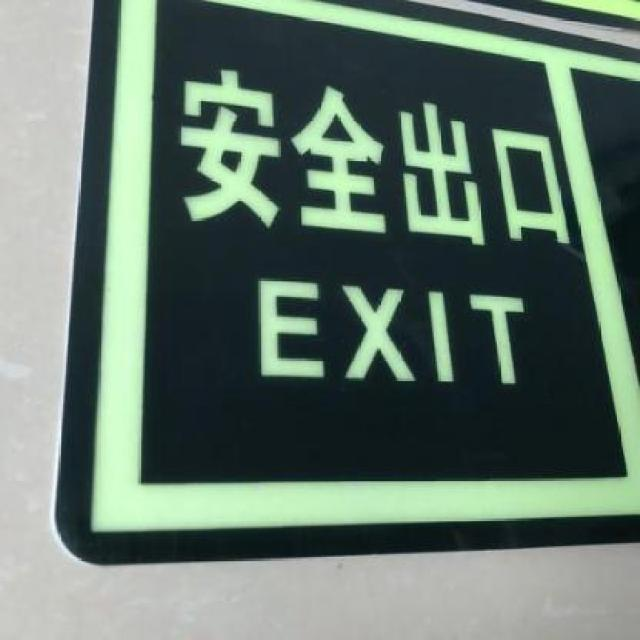exit_sign: (95, 0, 638, 552)
